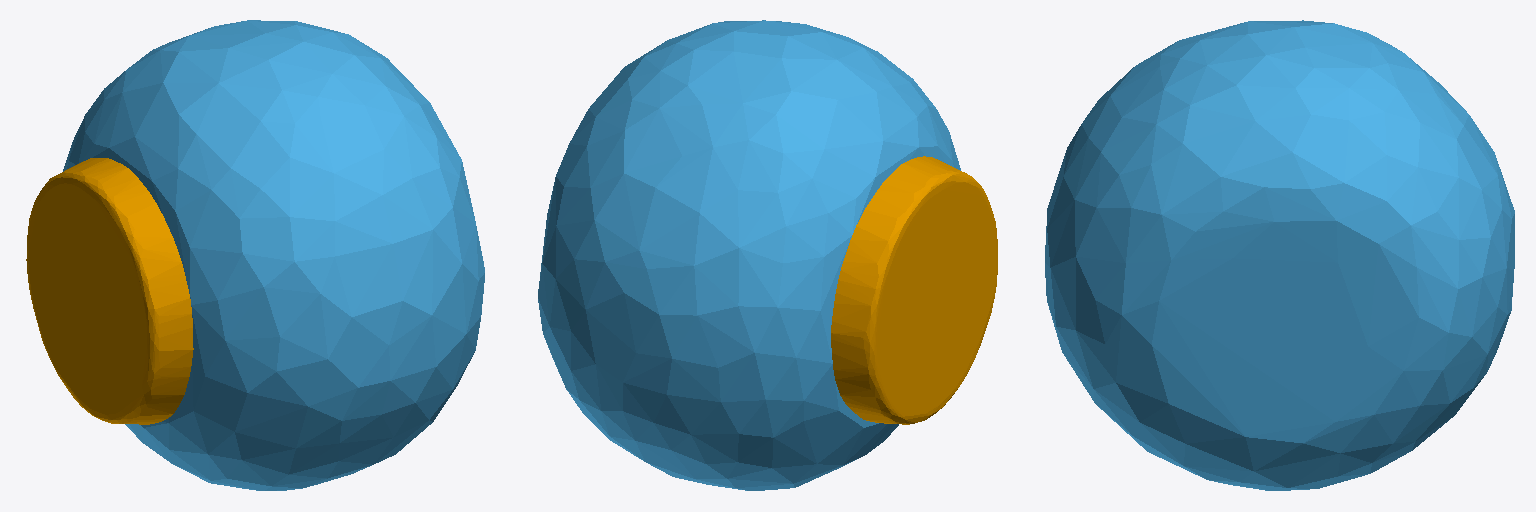
The robot description file, URDF, robot "root":
<robot name="root">
  <link name="link_convex_piece_000.obj">
    <inertial>
      <origin xyz="0 0 0" rpy="0 0 0"/>
    </inertial>
    <visual>
      <origin xyz="0 0 0" rpy="0 0 0"/>
      <geometry>
        <mesh filename="meshes/convex_piece_000.obj" scale="1.0 1.0 1.0"/>
      </geometry>
    </visual>
    <collision>
      <origin xyz="0 0 0" rpy="0 0 0"/>
      <geometry>
        <mesh filename="meshes/convex_piece_000.obj" scale="1.0 1.0 1.0"/>
      </geometry>
    </collision>
  </link>
  <link name="link_convex_piece_001.obj">
    <inertial>
      <origin xyz="0 0 0" rpy="0 0 0"/>
    </inertial>
    <visual>
      <origin xyz="0 0 0" rpy="0 0 0"/>
      <geometry>
        <mesh filename="meshes/convex_piece_001.obj" scale="1.0 1.0 1.0"/>
      </geometry>
    </visual>
    <collision>
      <origin xyz="0 0 0" rpy="0 0 0"/>
      <geometry>
        <mesh filename="meshes/convex_piece_001.obj" scale="1.0 1.0 1.0"/>
      </geometry>
    </collision>
  </link>
  <joint name="link_convex_piece_001.obj_joint" type="fixed">
    <origin xyz="0 0 0" rpy="0 0 0"/>
    <parent link="link_convex_piece_000.obj"/>
    <child link="link_convex_piece_001.obj"/>
  </joint>
</robot>

--- Facts derived from the render (not from the file) ---
3 views of the same robot in one strip: view 1: azimuth 30°, elevation 25°; view 2: azimuth 150°, elevation 25°; view 3: azimuth 270°, elevation 25° (orthographic).
Robot: root — 2 links, 1 joints (1 fixed); root link link_convex_piece_000.obj; default pose: all joints at 0.
Links seen in each view (by area): view 1: link_convex_piece_001.obj, link_convex_piece_000.obj; view 2: link_convex_piece_001.obj, link_convex_piece_000.obj; view 3: link_convex_piece_001.obj.
Link boxes in pixels (<box>): link_convex_piece_001.obj: <box>63,20,484,490</box>; link_convex_piece_000.obj: <box>26,158,193,424</box>; link_convex_piece_001.obj: <box>538,20,960,490</box>; link_convex_piece_000.obj: <box>831,156,997,424</box>; link_convex_piece_001.obj: <box>1045,20,1514,490</box>.
Bounding box of the posed robot: 0.9912 × 1.23 × 1.23 m (x, y, z).
Meshes: 2 distinct files referenced, 2 mesh visuals loaded (2 OBJ).
